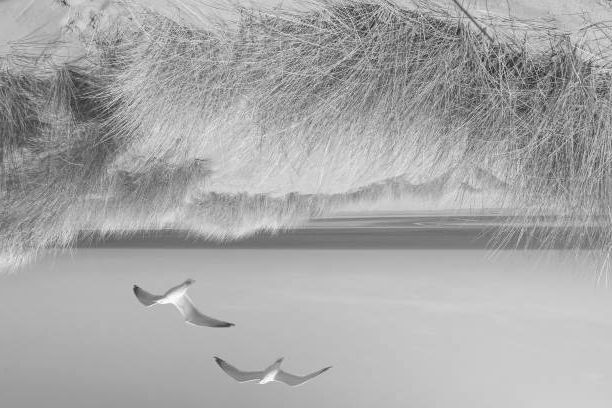Bird: (129, 277, 240, 335), (209, 348, 333, 389)
